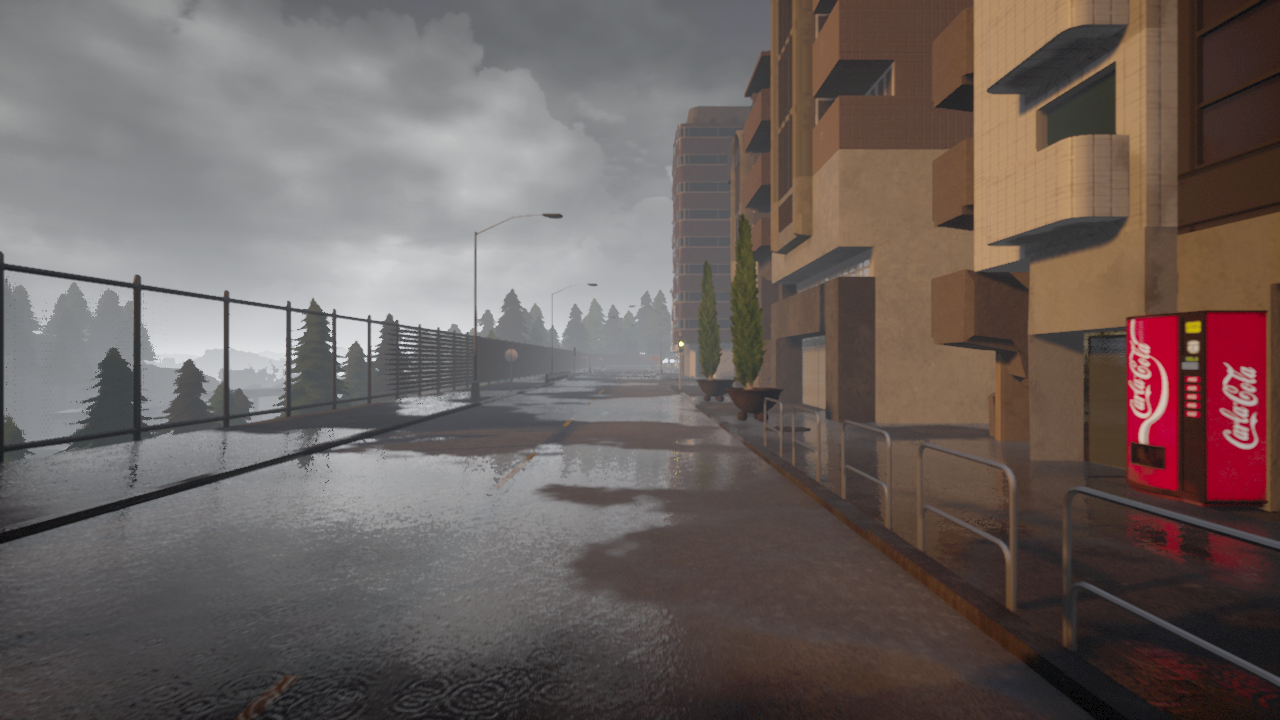yellow: (676, 337, 684, 353)
